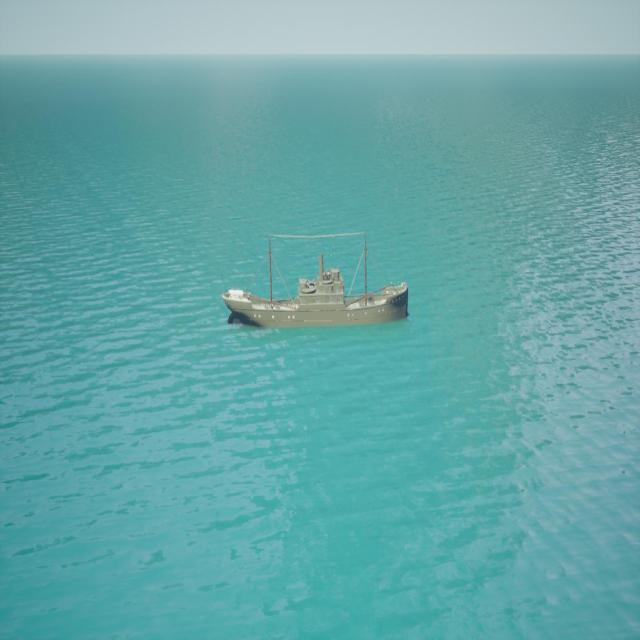fishing ship: (225, 231, 412, 333)
